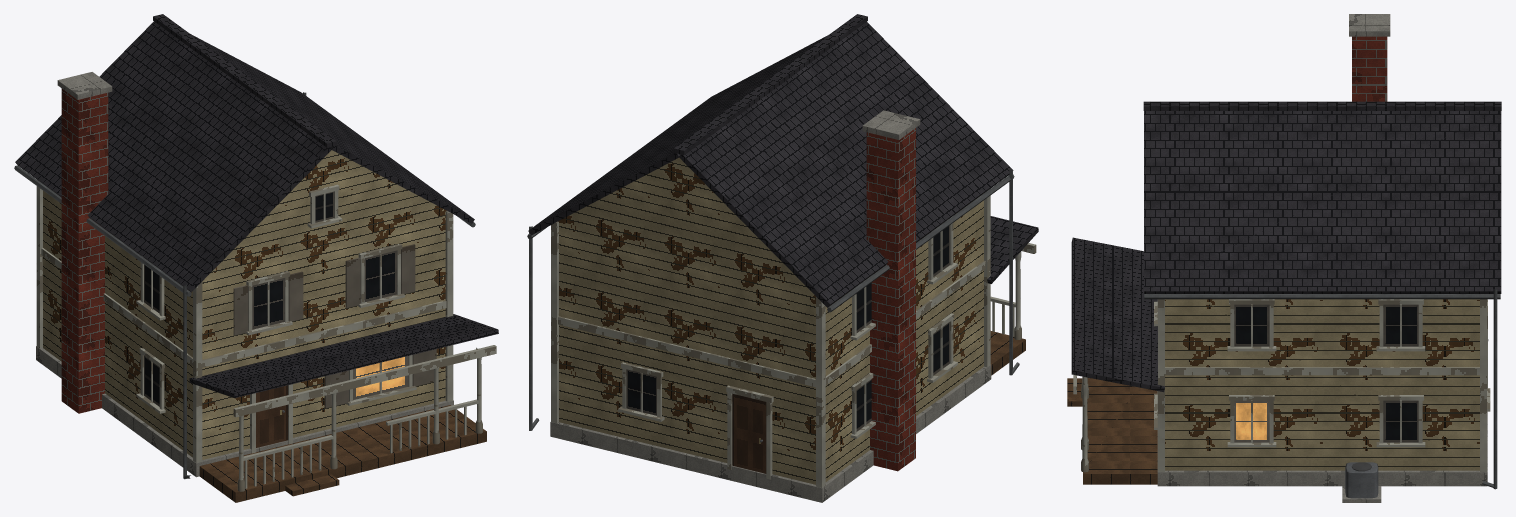
Rendered from town_house_d.glb.
The picture shows the model from 3 angles, left to right: view 1: azimuth 30°, elevation 25°; view 2: azimuth 150°, elevation 25°; view 3: azimuth 270°, elevation 25°; orthographic projection. The views are drawn at different scales.
Visible parts, largest first — view 1: detail, shell-col; view 2: detail, shell-col; view 3: detail, shell-col.
Part boxes in pixels (box(x1,y1,x2,y2)): detail: box(14, 14, 498, 491); shell-col: box(36, 185, 486, 502); detail: box(527, 14, 1038, 487); shell-col: box(550, 193, 1025, 502); detail: box(1071, 14, 1501, 502); shell-col: box(1067, 299, 1487, 486).
Size of what is drawn, in the model's own units: 9.58 by 9.27 by 11.06.
14 materials, 14 textured.
